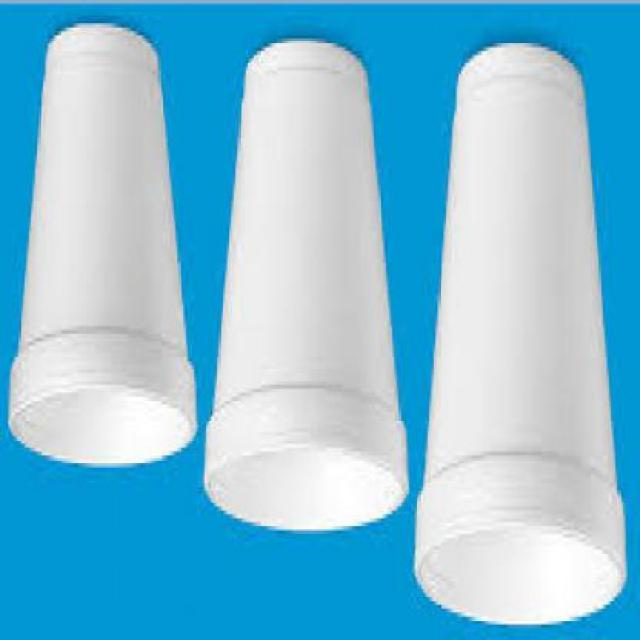PAPER: (417, 47, 628, 628), (205, 36, 409, 538), (12, 28, 198, 470)
